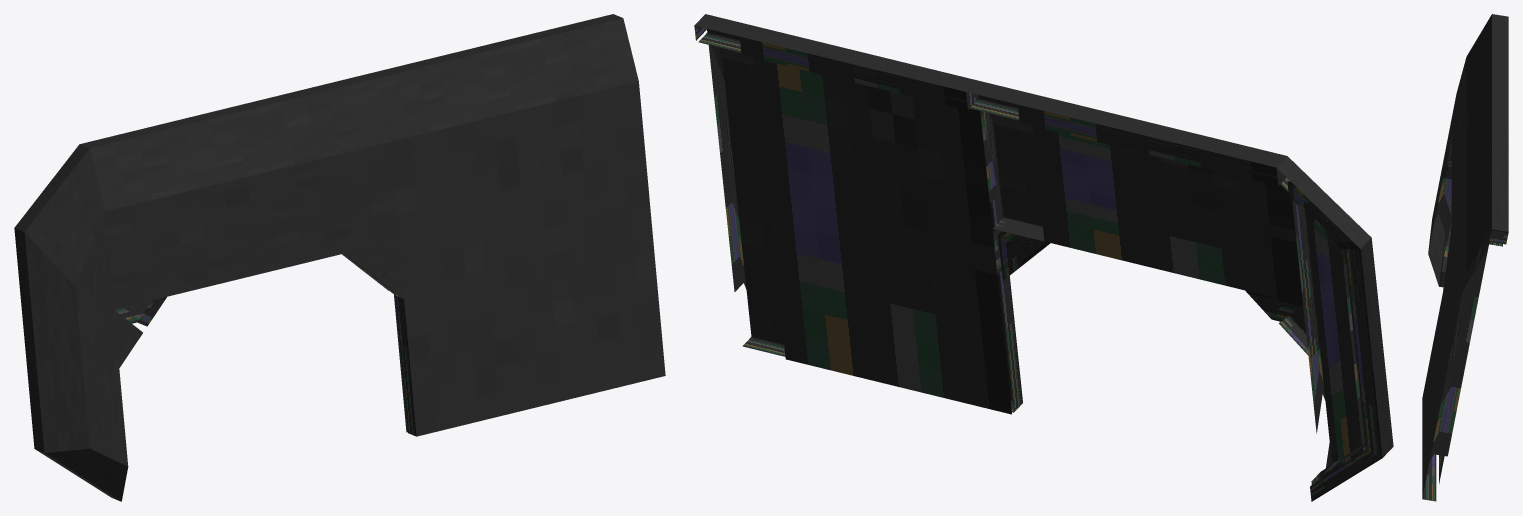
Rendered from bodypanel.obj.
3 views of the same model, side by side, from view 1: azimuth 30°, elevation 25°; view 2: azimuth 150°, elevation 25°; view 3: azimuth 270°, elevation 25° (orthographic). The views are drawn at different scales.
Parts seen in each view (by area): view 1: cube; view 2: cube; view 3: cube.
Boxes of the visible parts, bbox=[...] form: cube: bbox=[14, 14, 665, 501]; cube: bbox=[694, 14, 1393, 501]; cube: bbox=[1422, 14, 1508, 501].
Bounding box in the file's own units: 2.12 × 1.12 × 0.3185.
